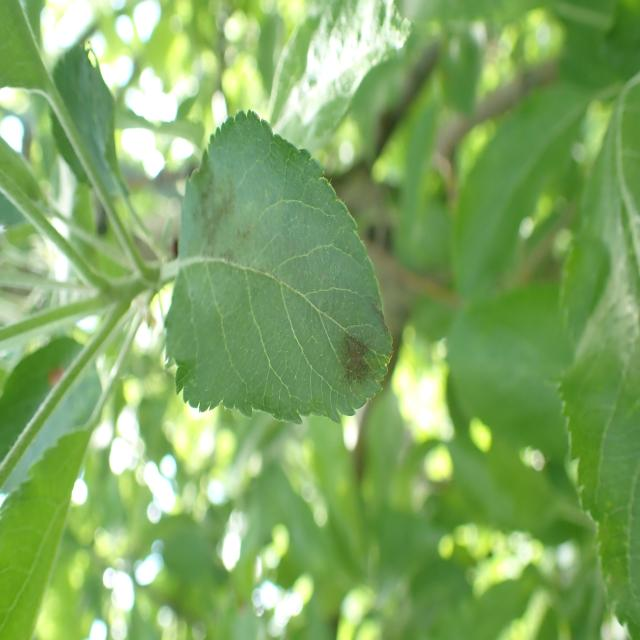scab: (173, 151, 391, 414)
